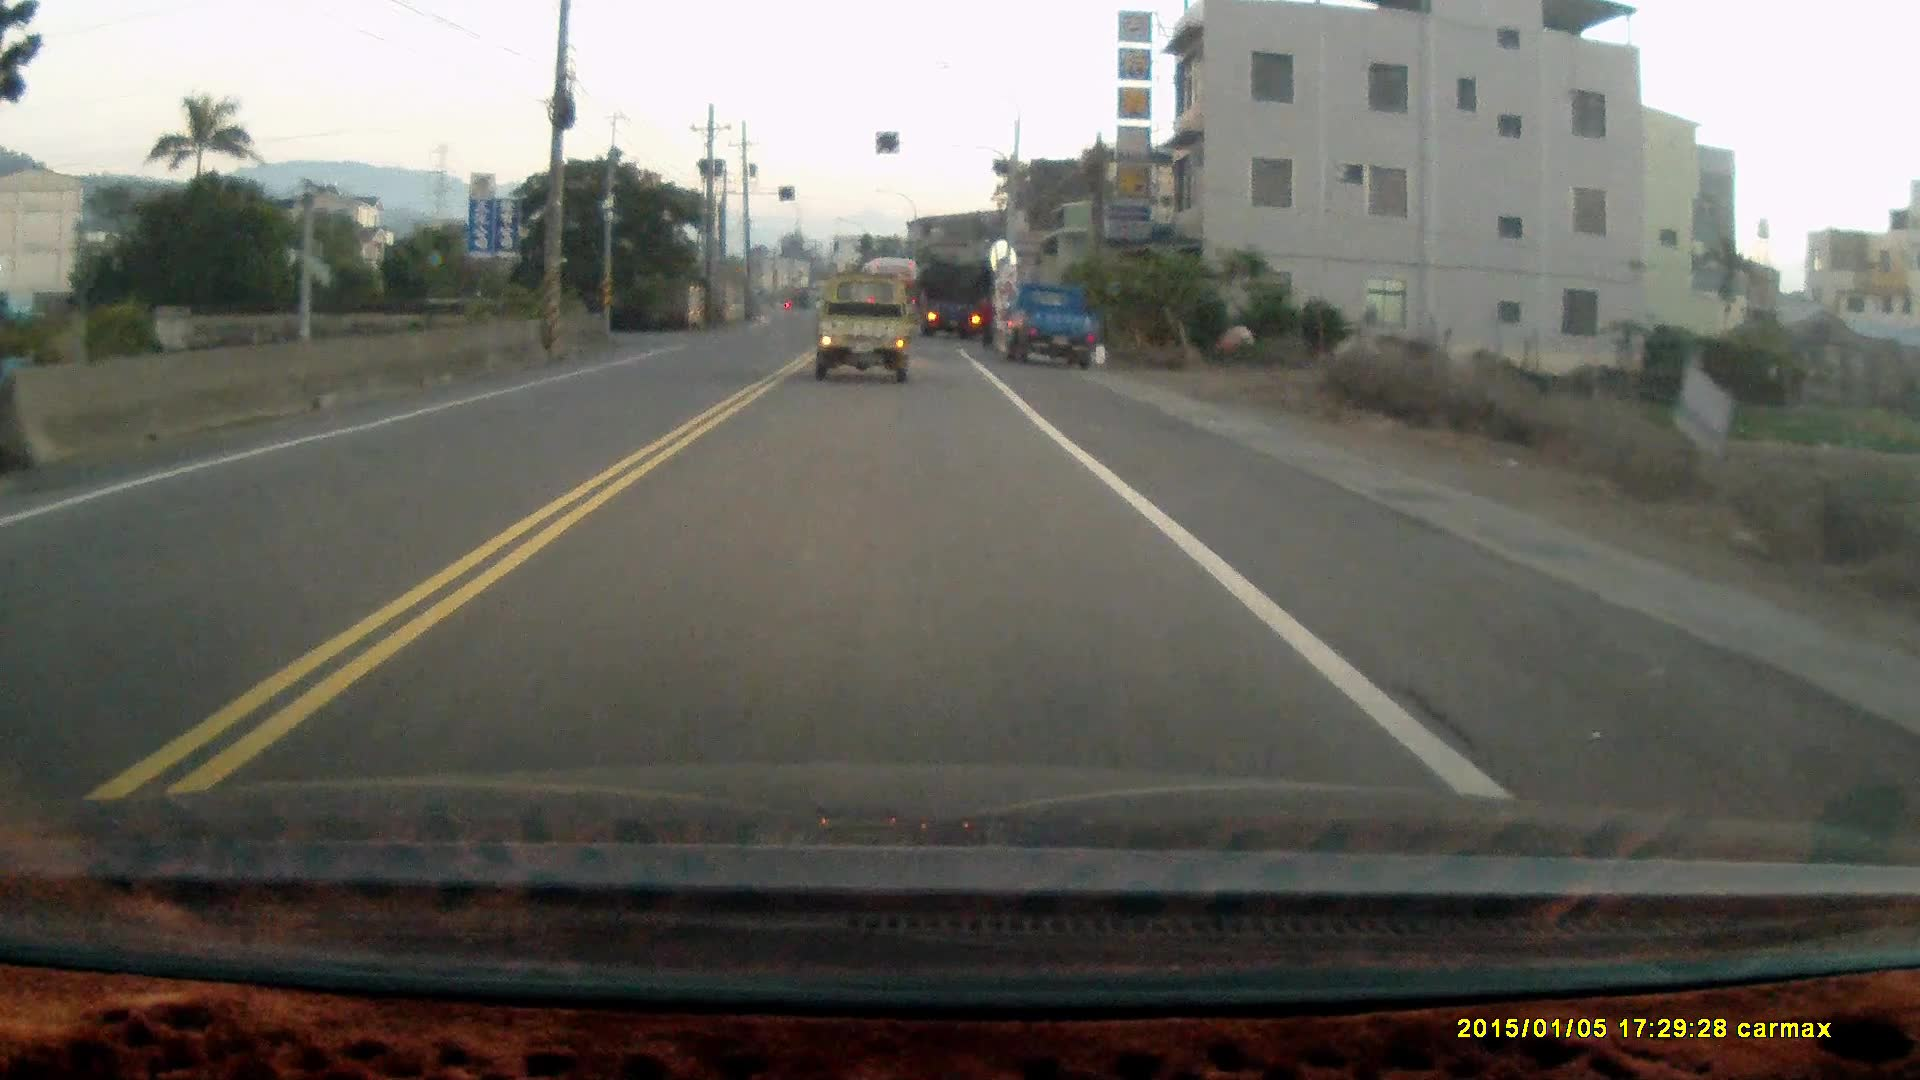vehicle: (811, 268, 915, 382), (997, 276, 1116, 372), (919, 255, 994, 338)
